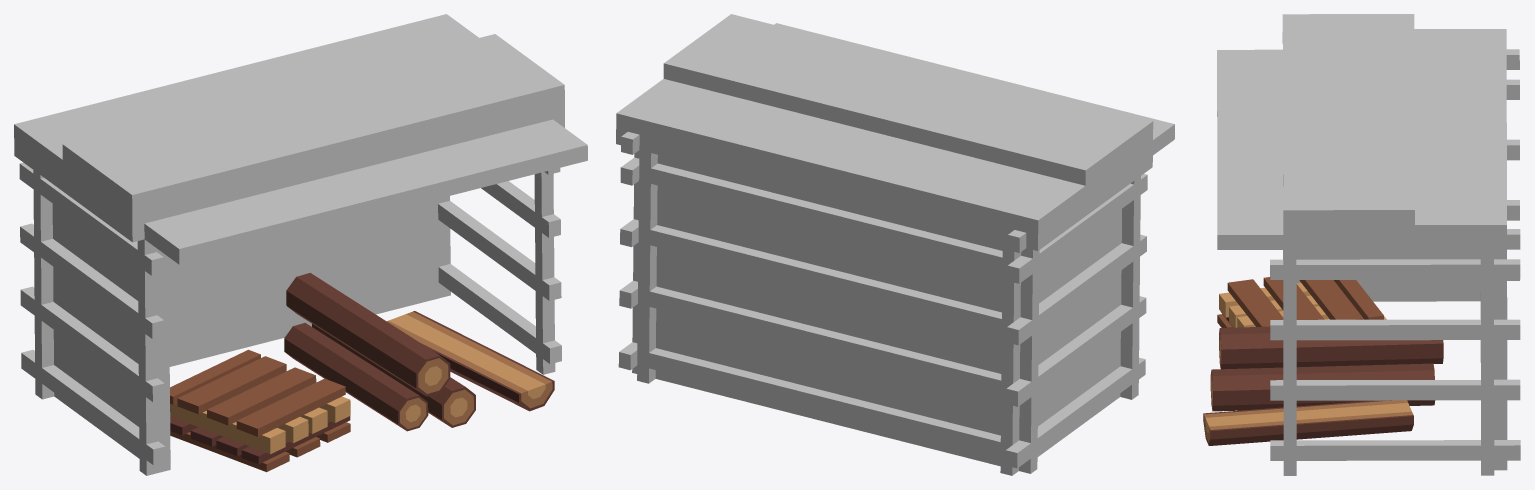
The model's file is sawmill.fbx.
3 views of the same model, side by side, from view 1: azimuth 30°, elevation 25°; view 2: azimuth 150°, elevation 25°; view 3: azimuth 270°, elevation 25° (orthographic). The views are drawn at different scales.
Visible parts, largest first — view 1: cart_maker_03_Building_02_empty_Unity, Deck.004, planks, Deck_half.001; view 2: cart_maker_03_Building_02_empty_Unity; view 3: cart_maker_03_Building_02_empty_Unity, Deck.004, Deck_half.001, planks.
Boxes of the visible parts, <box> form: cart_maker_03_Building_02_empty_Unity: <box>14,14,587,475</box>; Deck.004: <box>284,273,475,431</box>; planks: <box>170,349,350,472</box>; Deck_half.001: <box>387,311,554,411</box>; cart_maker_03_Building_02_empty_Unity: <box>616,14,1174,475</box>; cart_maker_03_Building_02_empty_Unity: <box>1217,14,1520,475</box>; Deck.004: <box>1210,326,1443,411</box>; Deck_half.001: <box>1203,400,1413,445</box>; planks: <box>1217,277,1386,327</box>.
Bounding box in the file's own units: 307 × 196 × 205.
